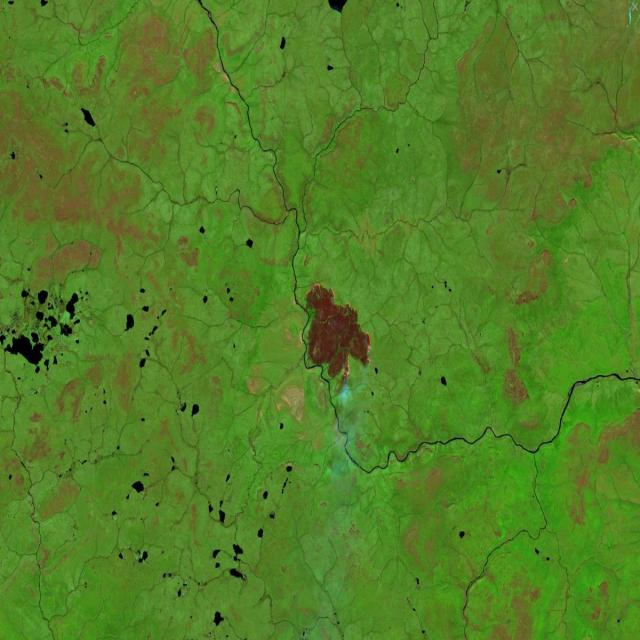fire: (297, 276, 374, 388)
